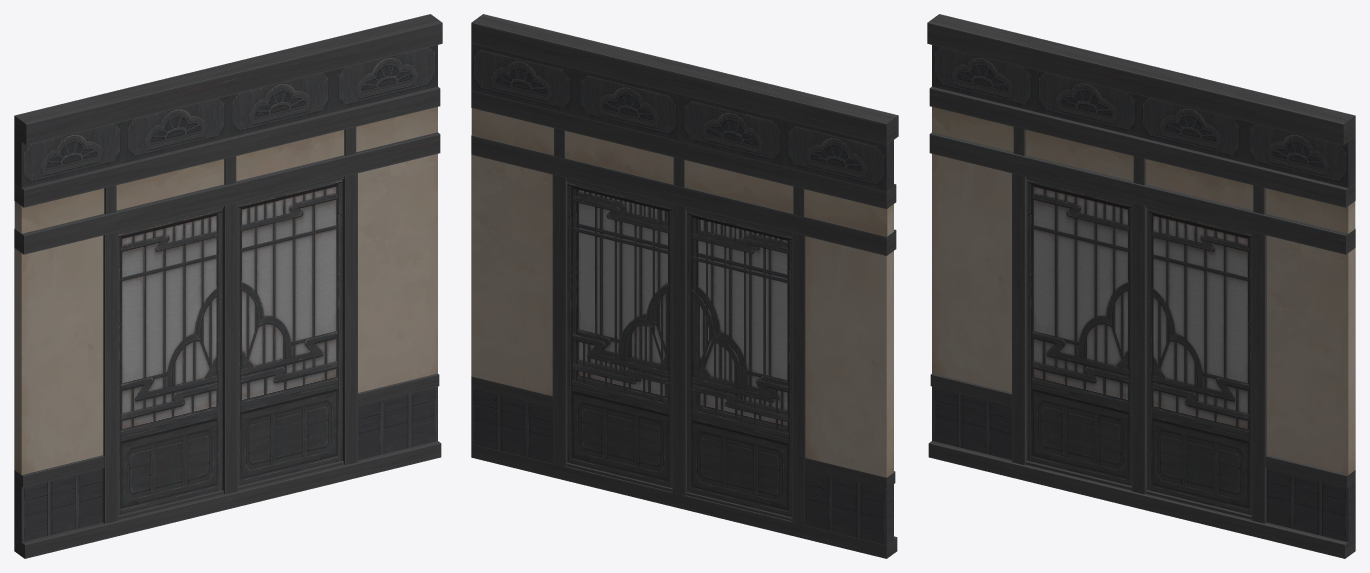
The model's file is Homeworld_Interior_Dq_Room_Wall_07_Vo.fbx.
3 renders of one model, left to right at view 1: azimuth 30°, elevation 25°; view 2: azimuth 150°, elevation 25°; view 3: azimuth 330°, elevation 25°, orthographic.
Parts seen in each view (by area): view 1: Homeworld_Interior_Dq_Room_Wall_07_Vo; view 2: Homeworld_Interior_Dq_Room_Wall_07_Vo; view 3: Homeworld_Interior_Dq_Room_Wall_07_Vo.
Boxes of the visible parts, bbox=[...] form: Homeworld_Interior_Dq_Room_Wall_07_Vo: bbox=[14, 14, 442, 558]; Homeworld_Interior_Dq_Room_Wall_07_Vo: bbox=[471, 14, 898, 558]; Homeworld_Interior_Dq_Room_Wall_07_Vo: bbox=[927, 14, 1355, 558].
Bounding box in the file's own units: 5 × 5 × 0.25.
